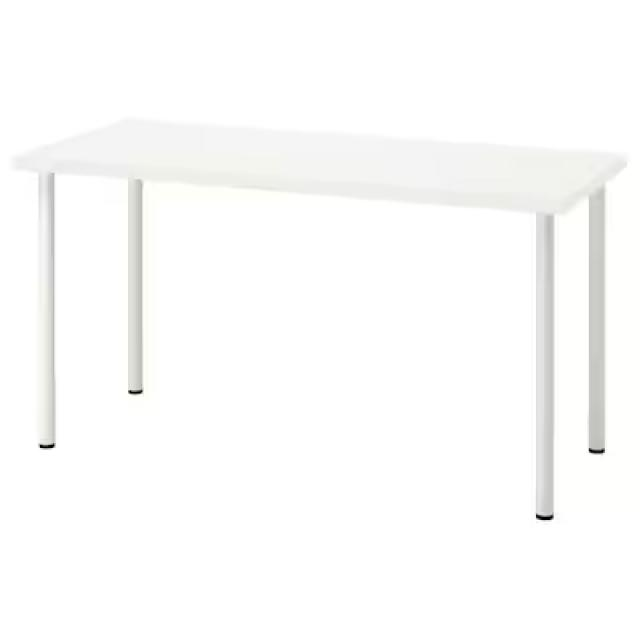table: (5, 98, 637, 532)
